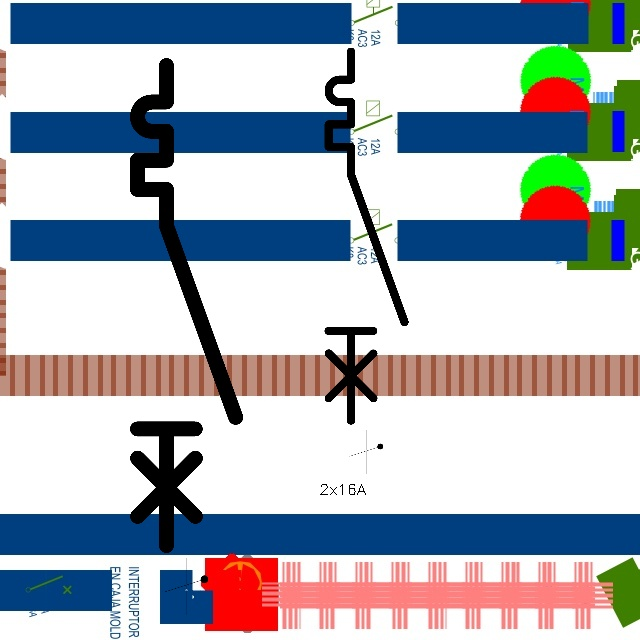interruptor_termomagnetico: (125, 53, 248, 558), (319, 42, 414, 430)
